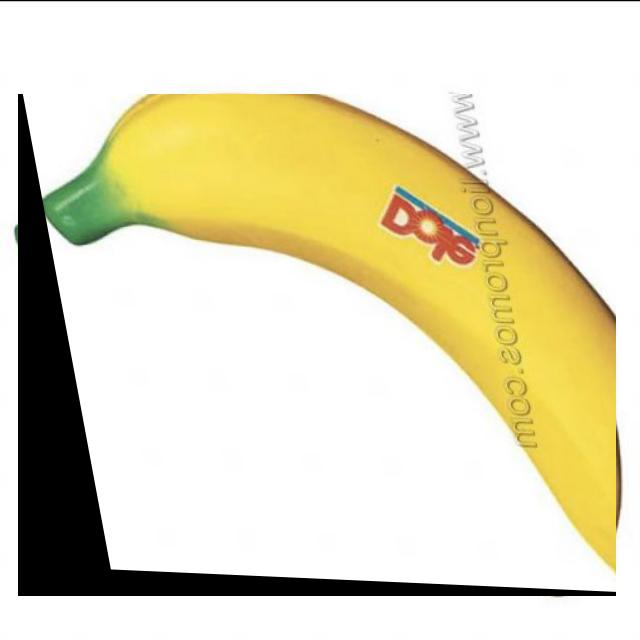Banana: (37, 94, 616, 586)
